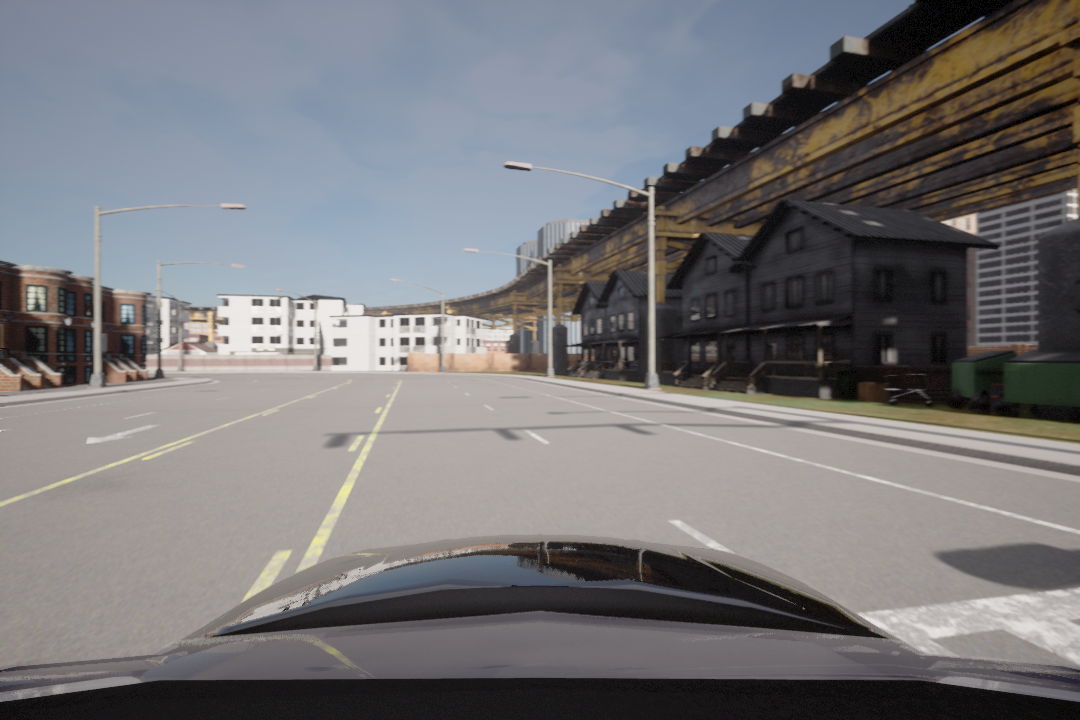RoadSign_forward: (76, 422, 164, 443)
